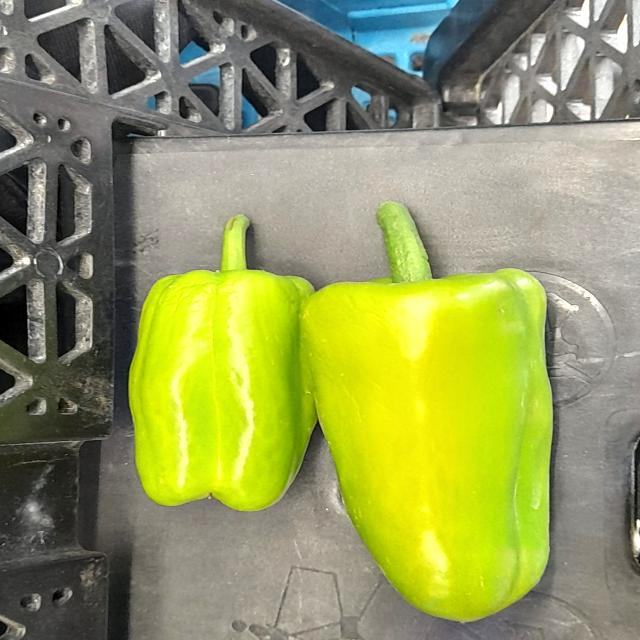bell pepper: (297, 187, 569, 630), (121, 196, 341, 520)
